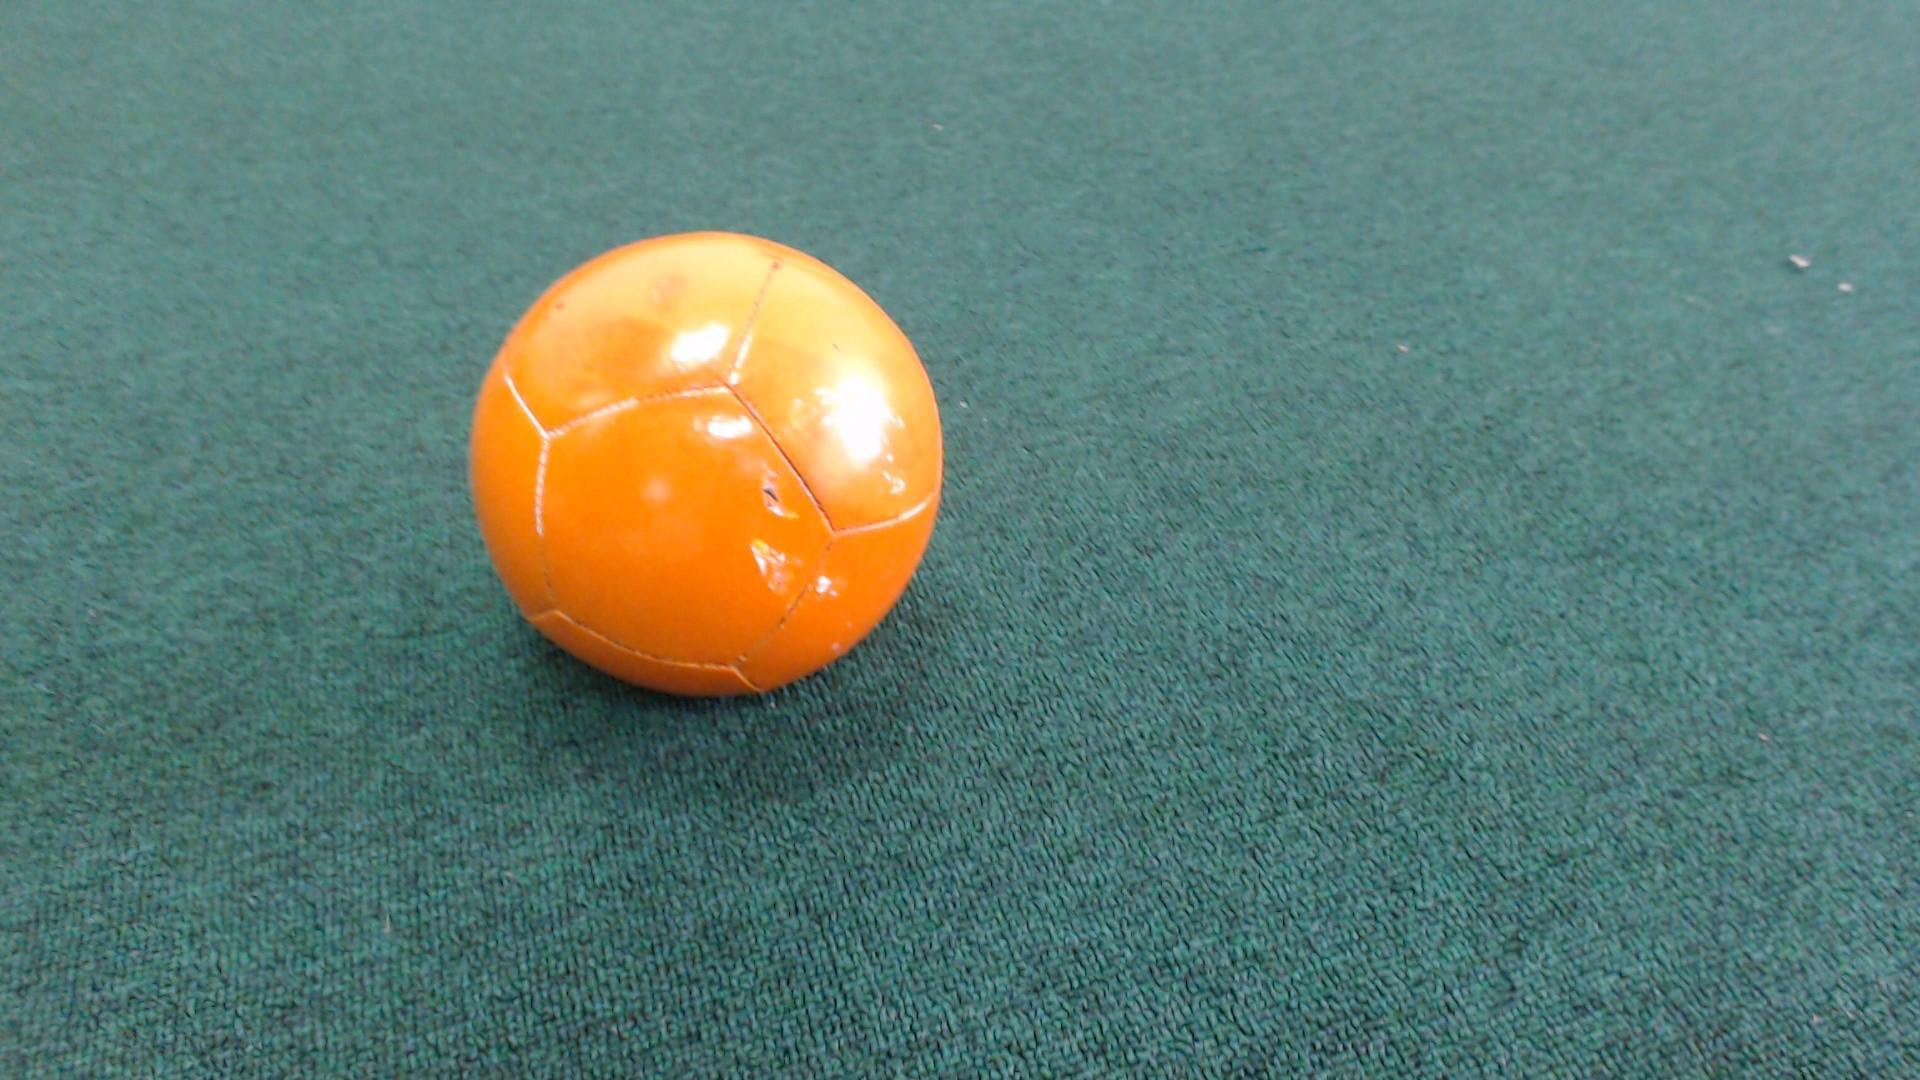bola: (415, 156, 1025, 760)
